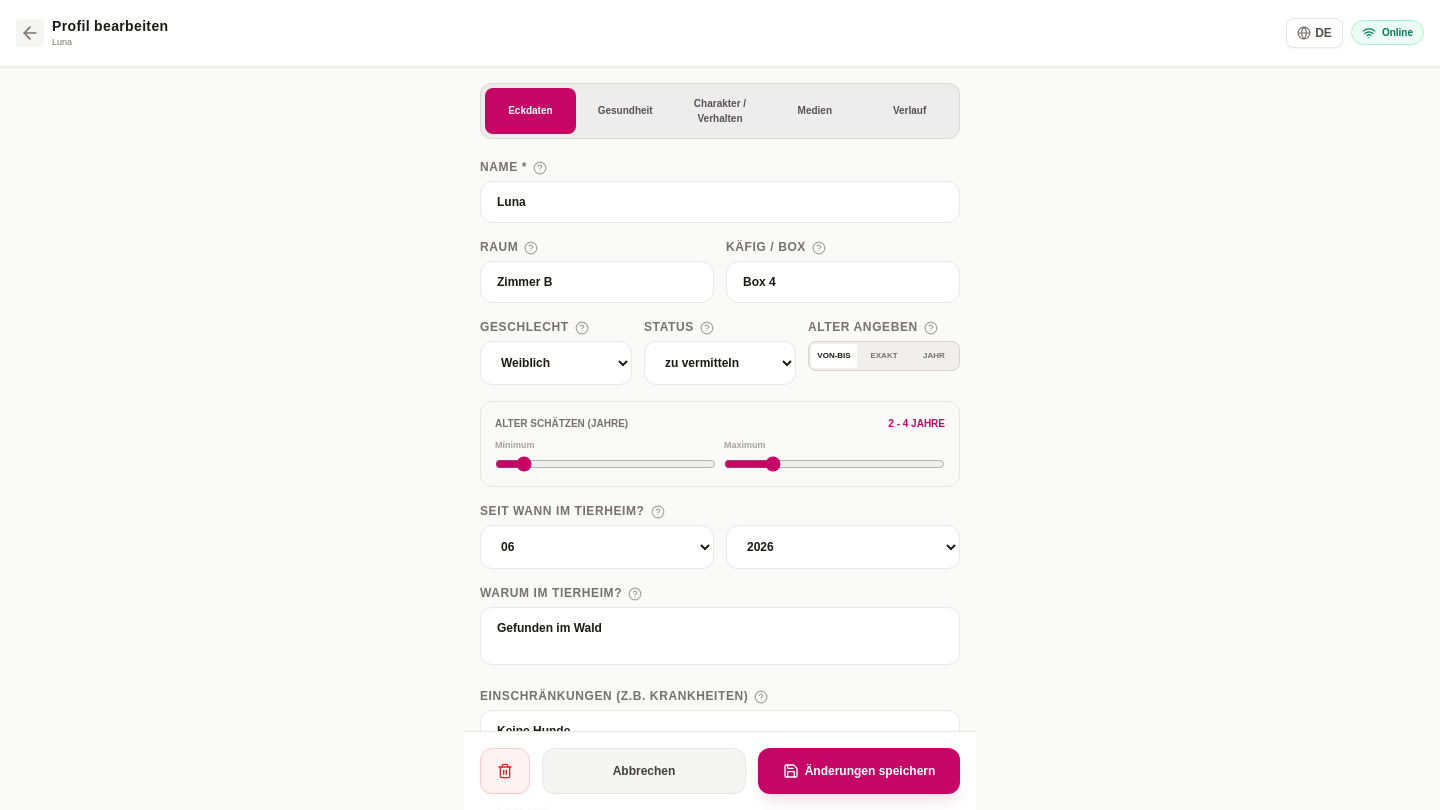
Test: EditCatPage Happy & Negative Path Tests › Happy Path: loads historical revision and fills form fields
The width and height of the screenshot is (1440, 810).
Expected: the field showing "Luna" below "Name *" is shown, [480, 180, 960, 222]
Click "Verlauf" tab
Click the button "Verlauf".
click(910, 110)  # box [864, 88, 955, 134]
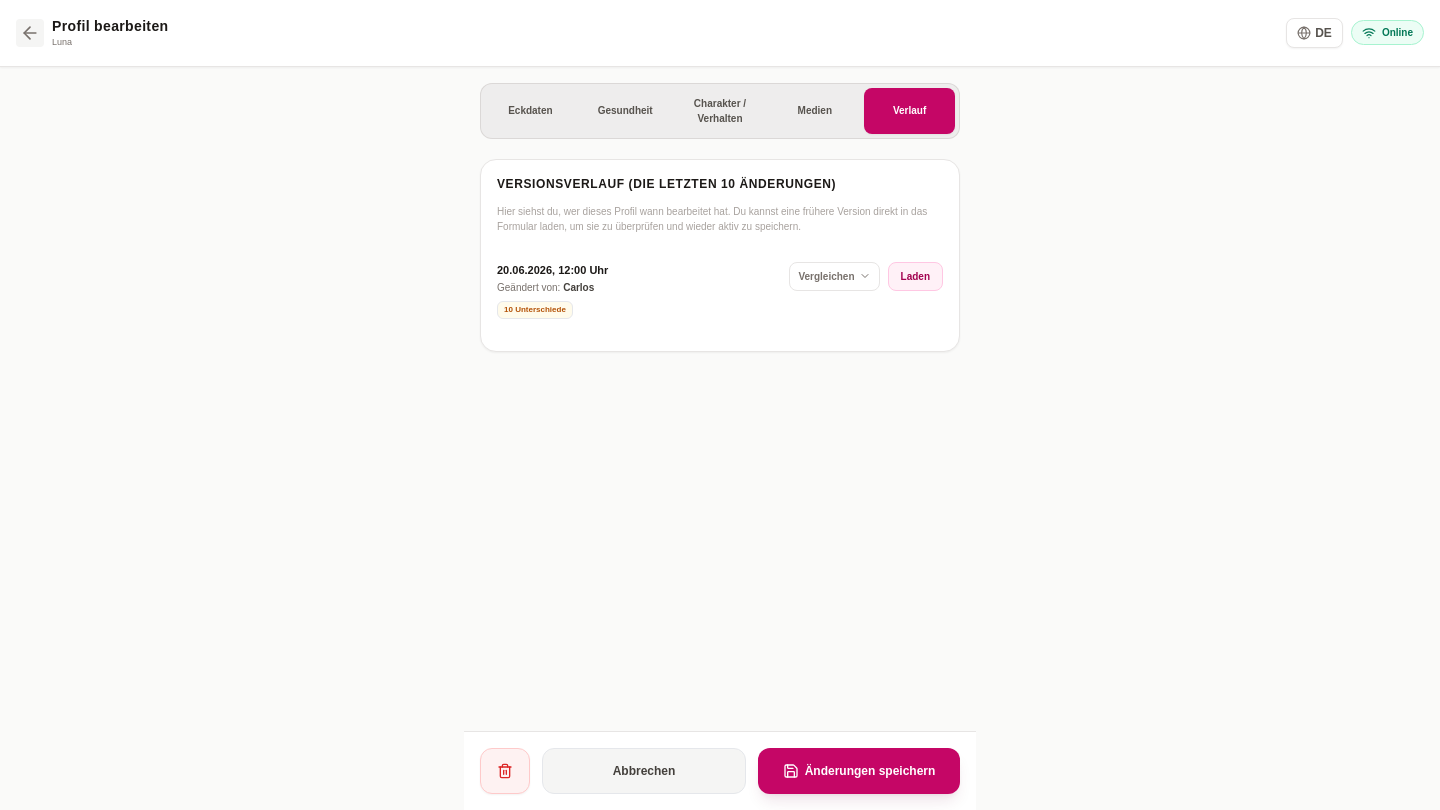
Expected: the text "Carlos" is shown, [563, 282, 594, 293]
Click the button "Laden".
click(915, 276)  # box [888, 262, 943, 290]
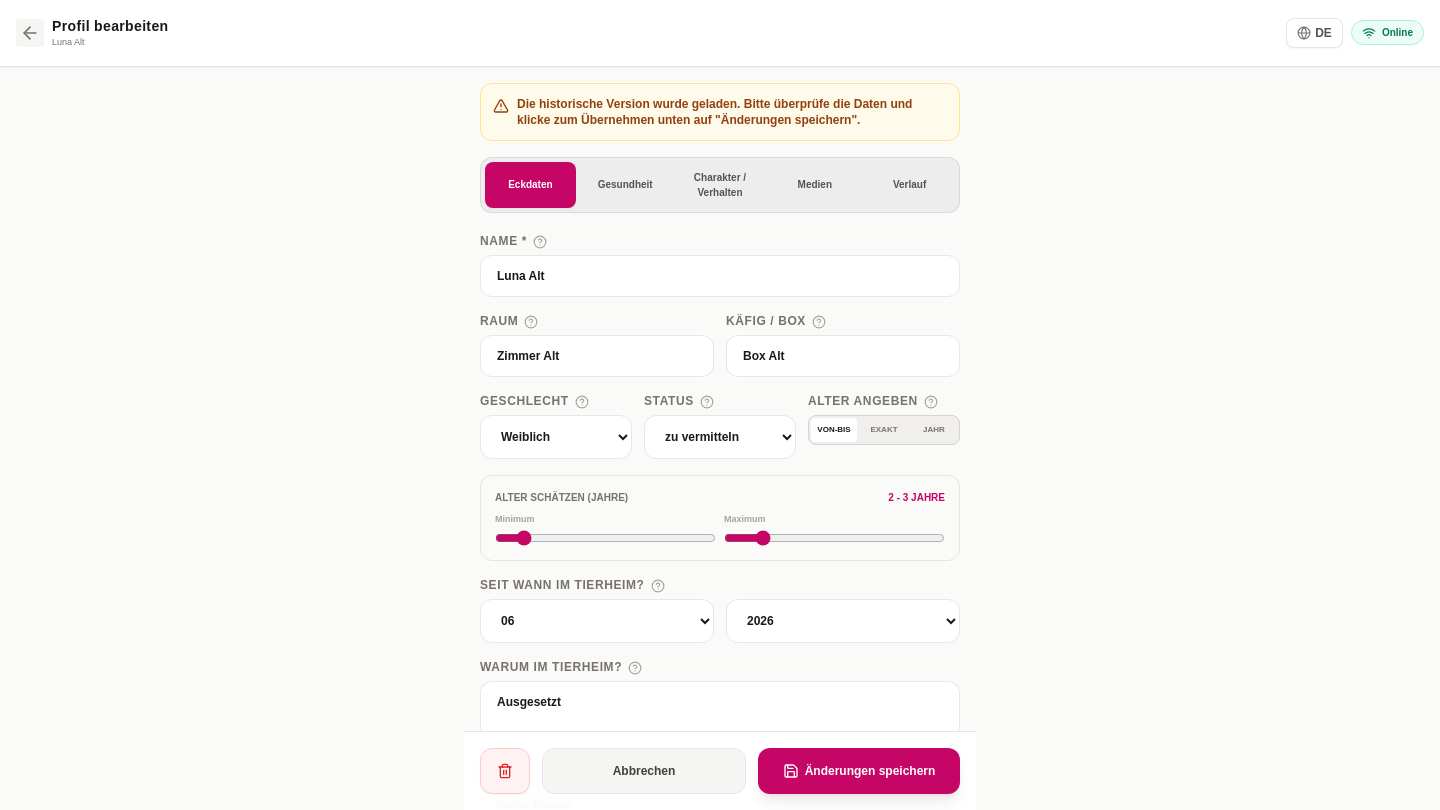
Expected: the field showing "Luna Alt" below "Name *" is shown, [480, 254, 960, 296]
Expected: the field showing "Zimmer Alt" below "Raum" is shown, [480, 334, 714, 376]
